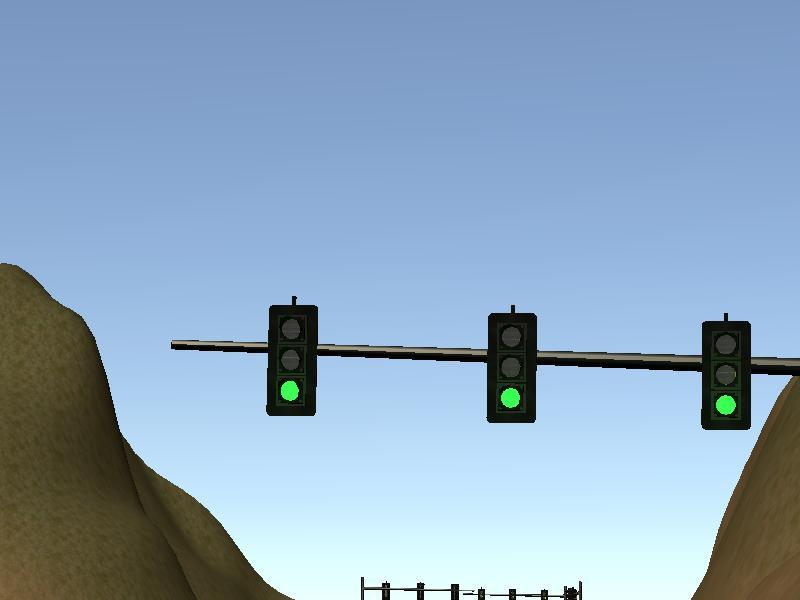Green: (267, 303, 320, 415), (700, 321, 753, 430), (487, 313, 536, 422)
